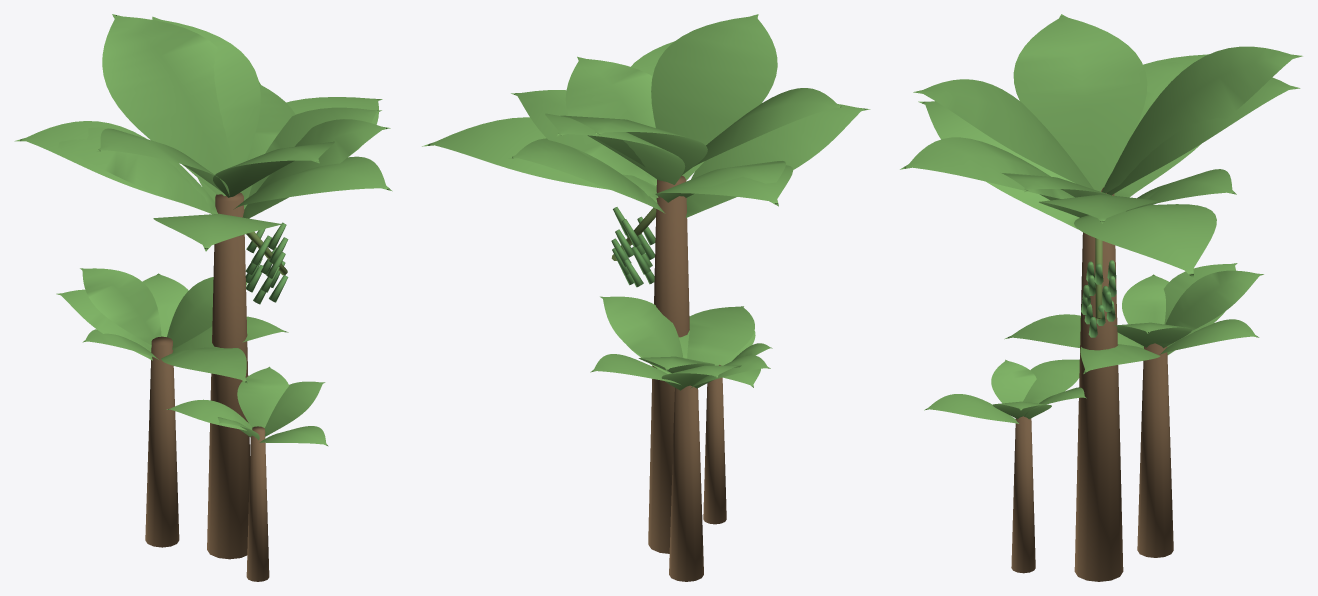
The model's file is banana_plant.glb.
3 renders of one model, left to right at view 1: azimuth 30°, elevation 25°; view 2: azimuth 150°, elevation 25°; view 3: azimuth 270°, elevation 25°, orthographic. The views are drawn at different scales.
Visible parts, largest first — view 1: banana_plant; view 2: banana_plant; view 3: banana_plant.
Boxes of the visible parts, left/top/right/bottom form: banana_plant: left=14, top=14, right=392, bottom=581; banana_plant: left=422, top=14, right=870, bottom=581; banana_plant: left=900, top=14, right=1302, bottom=581.
Size of the model in its own units: 2.92 by 3.67 by 2.67.
